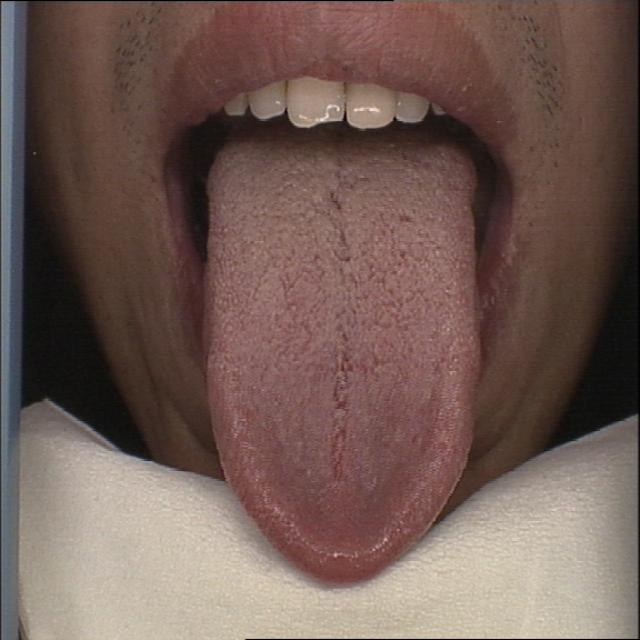tongue: (200, 139, 489, 592)
